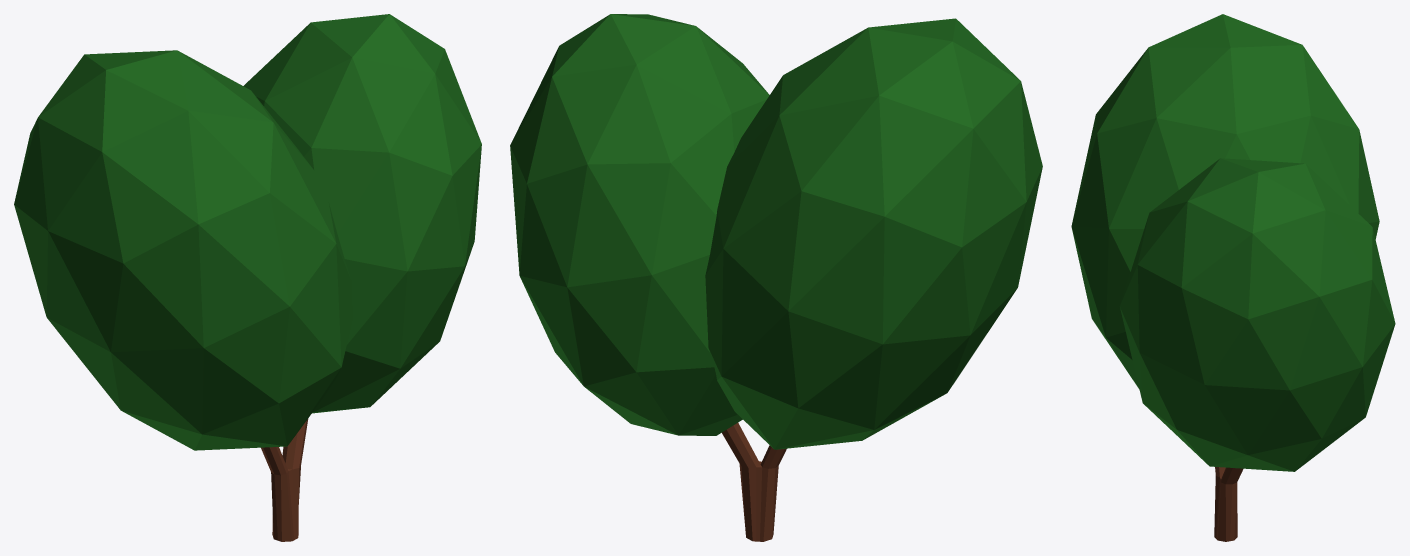
File: bush3.fbx
The picture shows the model from 3 angles, left to right: view 1: azimuth 30°, elevation 25°; view 2: azimuth 150°, elevation 25°; view 3: azimuth 270°, elevation 25°; orthographic projection. The views are drawn at different scales.
Visible parts, largest first — view 1: Cylinder.003; view 2: Cylinder.003; view 3: Cylinder.003.
Part boxes in pixels (left/top/right/bottom): Cylinder.003: left=14, top=14, right=481, bottom=541; Cylinder.003: left=510, top=14, right=1042, bottom=541; Cylinder.003: left=1071, top=14, right=1395, bottom=541.
Size of the model in its own units: 451 by 500 by 329.
